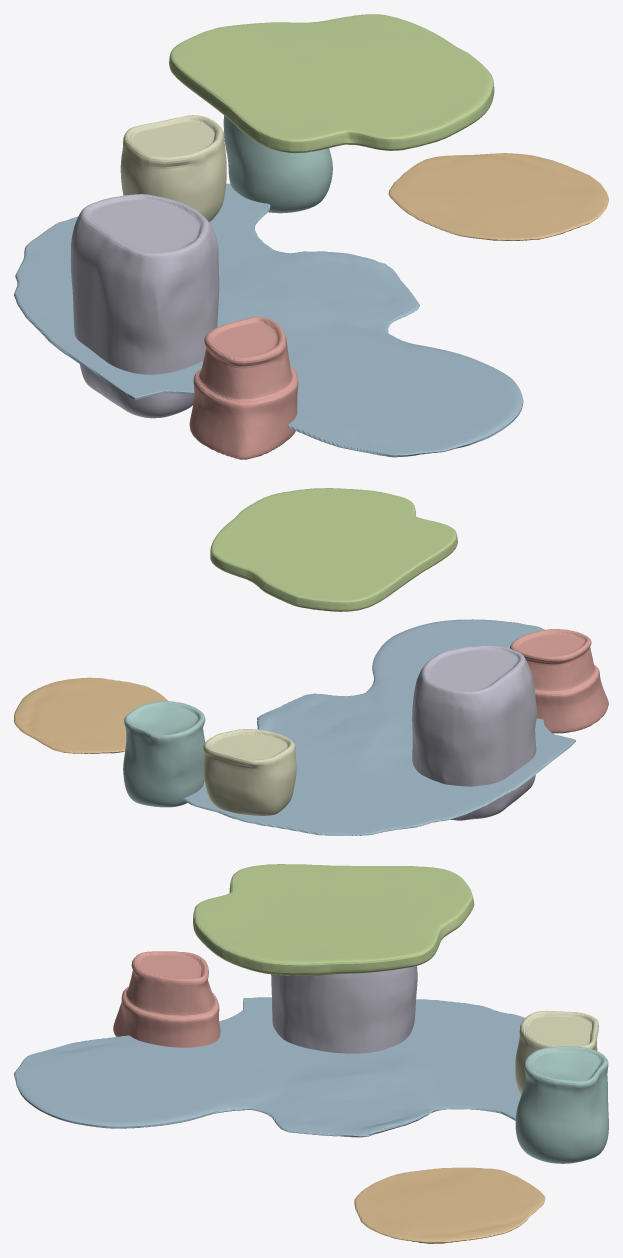
Rendered from image7_1.glb.
The picture shows the model from 3 angles, top to bottom: view 1: azimuth 30°, elevation 25°; view 2: azimuth 150°, elevation 25°; view 3: azimuth 270°, elevation 25°; orthographic projection. The views are drawn at different scales.
Visible parts, largest first — view 1: world; view 2: world; view 3: world.
Boxes of the visible parts, x1,y1,x2,y2 form: world: (14,14,608,459); world: (14,488,608,835); world: (14,864,608,1243).
Bounding box in the file's own units: 1.69 × 0.7655 × 1.74.
